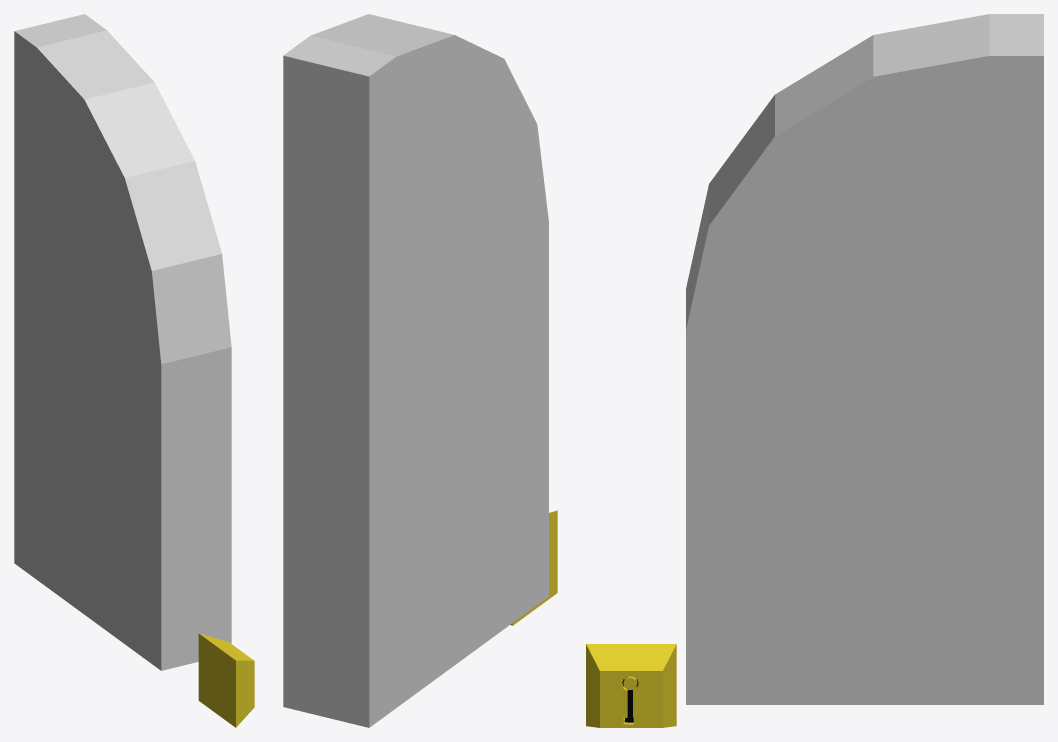
Rendered from LockedDoor.fbx.
3 renders of one model, left to right at view 1: azimuth 30°, elevation 25°; view 2: azimuth 150°, elevation 25°; view 3: azimuth 270°, elevation 25°, orthographic. The views are drawn at different scales.
Parts seen in each view (by area): view 1: SM_Door, SM_Lock; view 2: SM_Door, SM_Lock; view 3: SM_Door, SM_Lock.
Part boxes in pixels (x1,y1,x2,y2): SM_Door: [14, 14, 231, 670]; SM_Lock: [198, 633, 254, 727]; SM_Door: [283, 14, 548, 727]; SM_Lock: [511, 510, 557, 625]; SM_Door: [686, 14, 1043, 704]; SM_Lock: [586, 644, 676, 727].
Size of the model in its own units: 41.48 by 320 by 192.
